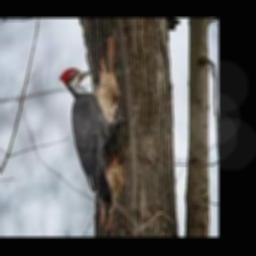Woodpecker: (59, 68, 122, 226)
